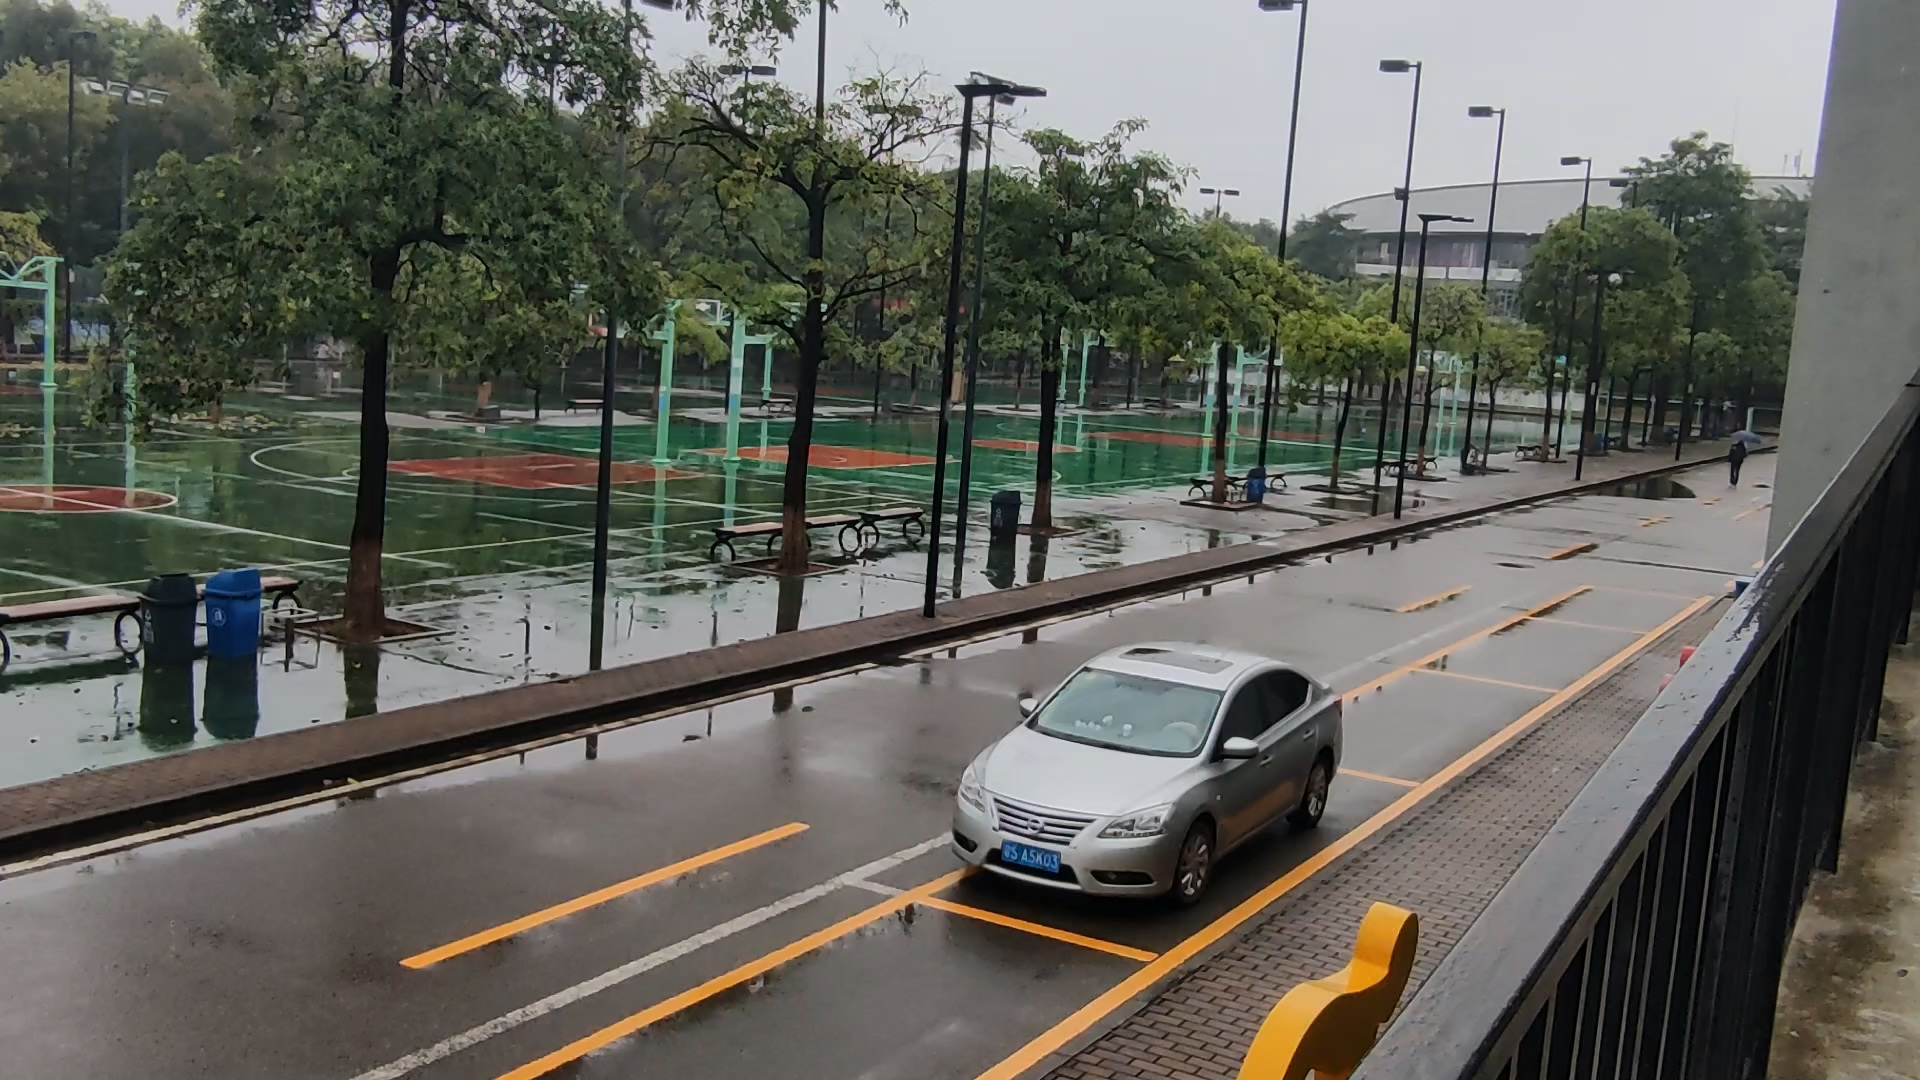space-empty: (1236, 663, 1573, 795), (1410, 603, 1653, 702), (1510, 570, 1714, 644)
space-occupied: (897, 740, 1425, 976)
